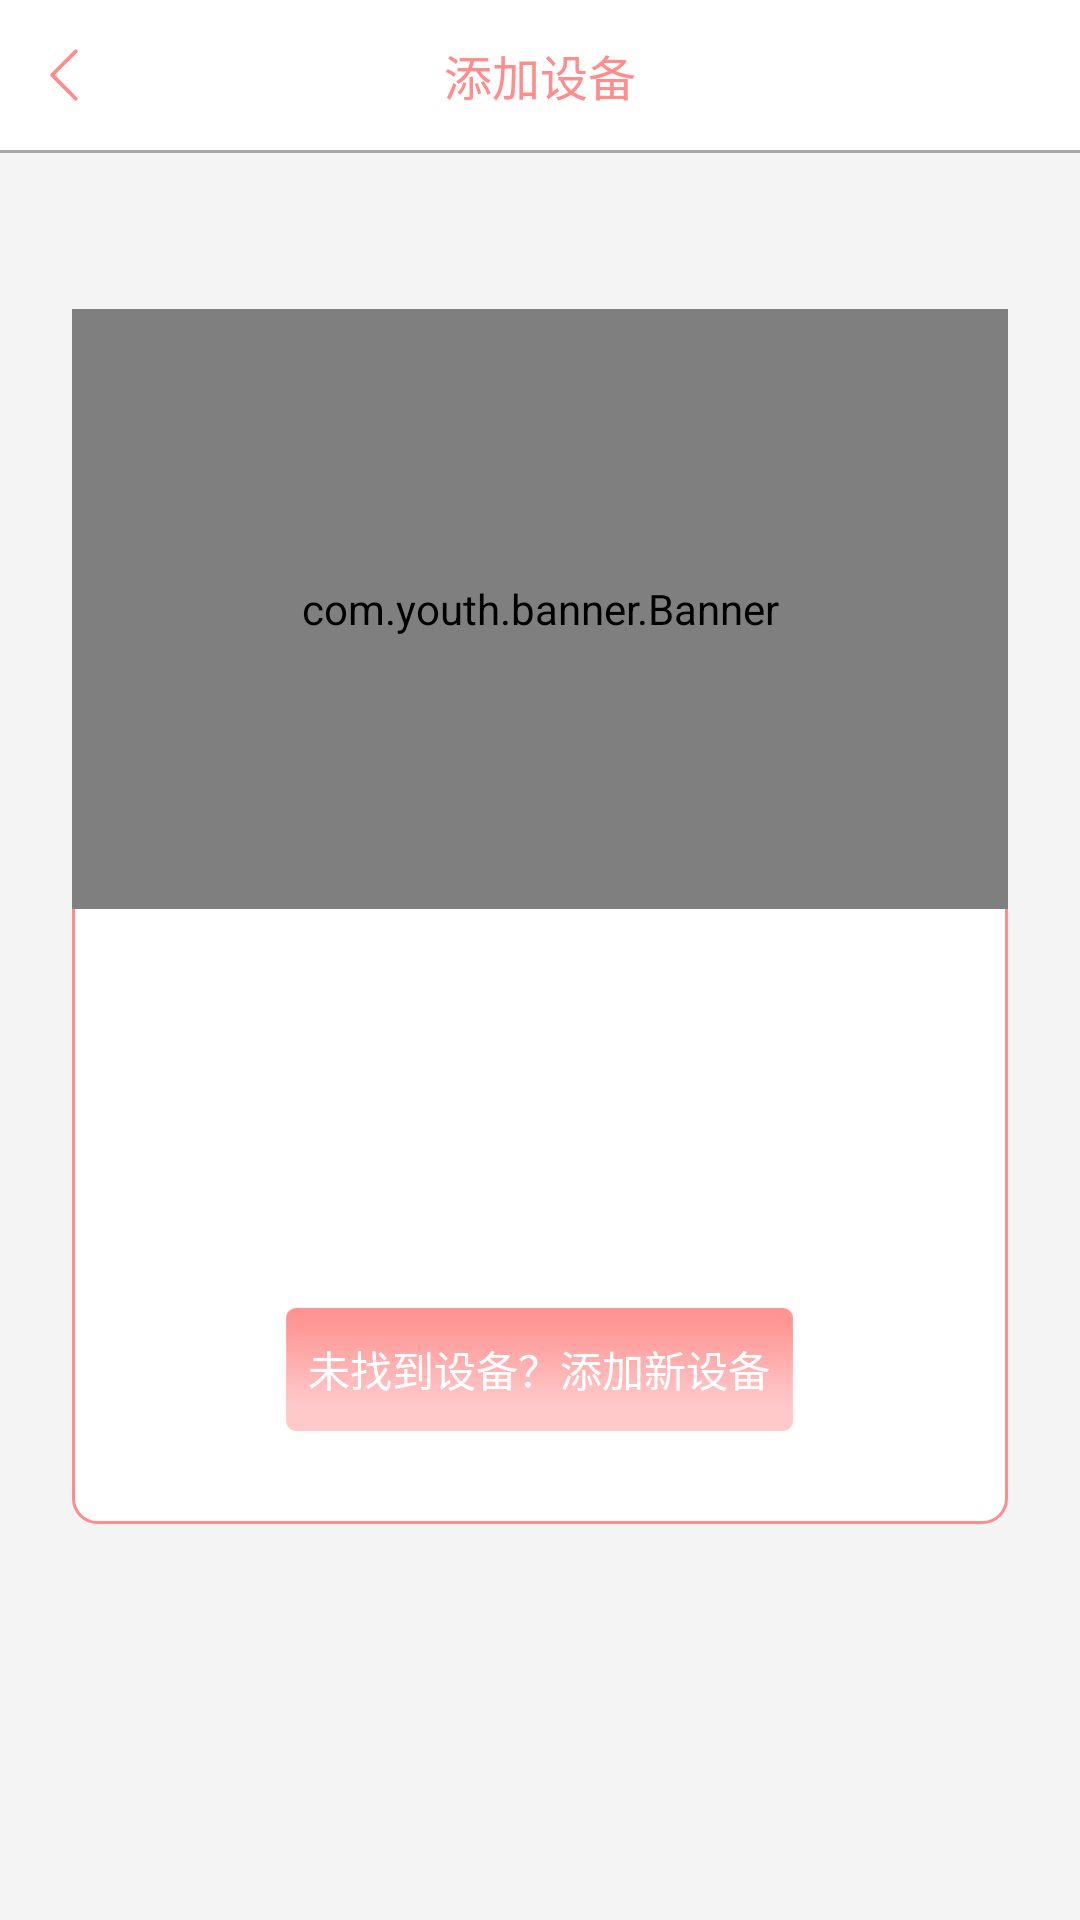

Screen size 1080px×1920px. Icon name, then its box in pixels as {"left": x1, "top": y1, "right": x2, "bottom": y2}:
fanhuijiantou: {"left": 50, "top": 49, "right": 78, "bottom": 101}
